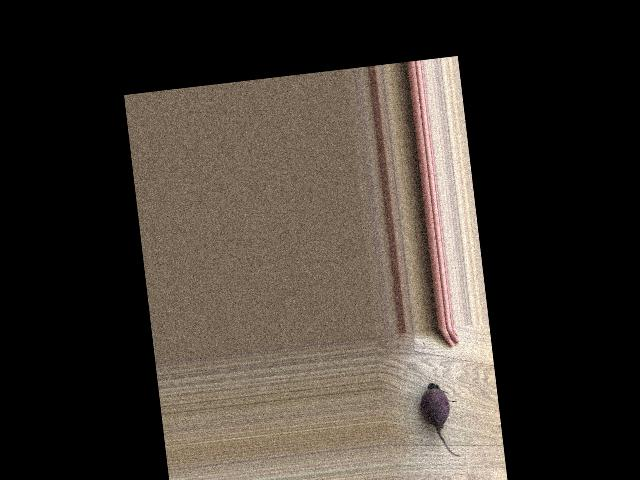beet: (418, 381, 462, 460)
